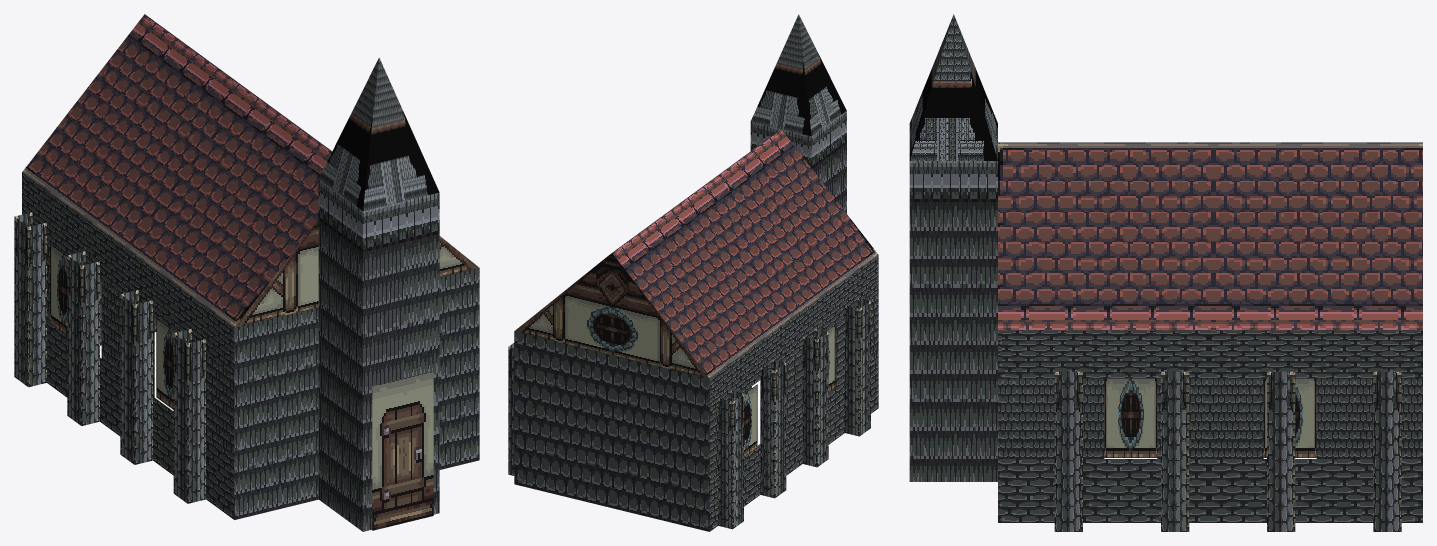
The model's file is chapel.glb.
3 renders of one model, left to right at view 1: azimuth 30°, elevation 25°; view 2: azimuth 150°, elevation 25°; view 3: azimuth 270°, elevation 25°, orthographic. The views are drawn at different scales.
Parts seen in each view (by area): view 1: Roof_Left, Wall_FrontL, Tower_Front, Tower_Left, Wall_LeftHi, Door, Wall_FrontR, Wall_LeftLo, Spire_Front, Gable_Front, Spire_Left, ButL_5_L (+11 smaller); view 2: Roof_Left, Wall_Back, Gable_Back, Wall_LeftHi, Spire_Back, Wall_LeftLo, Tower_Left, Spire_Left, ButL_5_R, ButL_2_R, ButL_8_R, ButL_11_R (+11 smaller); view 3: Roof_Right, Tower_Right, Wall_RightLo, Wall_RightHi, Spire_Right, Wall_RightW3, Wall_RightW2, Wall_RightW1, ButR_11_F, ButR_2_F, ButR_5_F, ButR_8_F (+4 smaller).
Boxes of the visible parts, x1,y1,x2,y2 form: Roof_Left: [22, 14, 332, 327]; Wall_FrontL: [234, 307, 318, 519]; Tower_Front: [363, 192, 439, 531]; Tower_Left: [318, 179, 362, 531]; Wall_LeftHi: [22, 172, 234, 375]; Door: [372, 371, 433, 530]; Wall_FrontR: [439, 268, 479, 469]; Wall_LeftLo: [47, 319, 234, 519]; Spire_Front: [363, 58, 439, 210]; Gable_Front: [235, 219, 479, 327]; Spire_Left: [319, 58, 378, 210]; ButL_5_L: [134, 300, 152, 464]; Roof_Left: [612, 129, 878, 378]; Wall_Back: [514, 331, 709, 531]; Gable_Back: [515, 253, 709, 378]; Wall_LeftHi: [709, 255, 878, 416]; Spire_Back: [750, 15, 811, 136]; Wall_LeftLo: [709, 357, 878, 531]; Tower_Left: [811, 111, 846, 213]; Spire_Left: [798, 14, 846, 135]; ButL_5_R: [802, 336, 817, 467]; ButL_2_R: [845, 305, 859, 436]; ButL_8_R: [760, 367, 774, 498]; ButL_11_R: [718, 398, 732, 529]; Roof_Right: [998, 142, 1422, 330]; Tower_Right: [909, 161, 997, 481]; Wall_RightLo: [998, 459, 1422, 522]; Wall_RightHi: [998, 330, 1422, 378]; Spire_Right: [909, 14, 997, 160]; Wall_RightW3: [1316, 378, 1422, 458]; Wall_RightW2: [1157, 378, 1263, 458]; Wall_RightW1: [998, 378, 1104, 458]; ButR_11_F: [1373, 371, 1401, 531]; ButR_2_F: [1054, 371, 1082, 531]; ButR_5_F: [1161, 371, 1189, 531]; ButR_8_F: [1267, 371, 1295, 531].
Size of what is drawn, in the model's own units: 9.2 by 14 by 14.57.
Materials: 1 (1 with a texture image).
